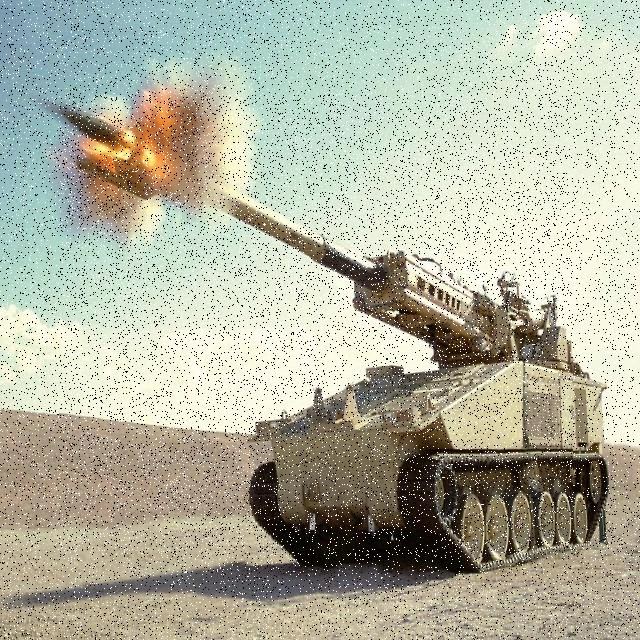MIL_MBT: (60, 96, 573, 556)
